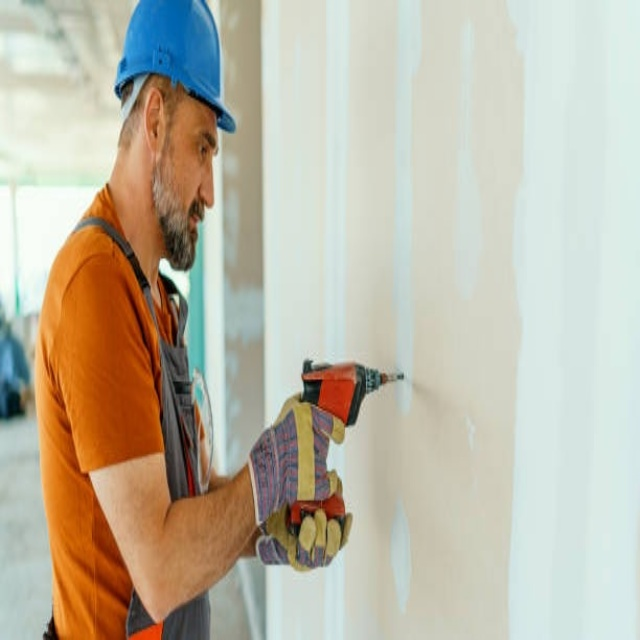Guantes: (247, 395, 344, 543), (260, 471, 347, 584)
Sin_gafas: (170, 133, 226, 173)
Sin_mascara: (175, 200, 211, 259)
